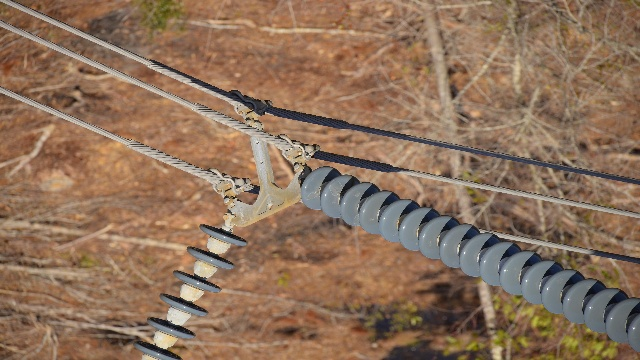insulator_unspecified: (300, 167, 639, 353), (134, 224, 249, 359)
pollution_flashover_local: (325, 177, 344, 199), (304, 192, 318, 202), (354, 214, 364, 227)
